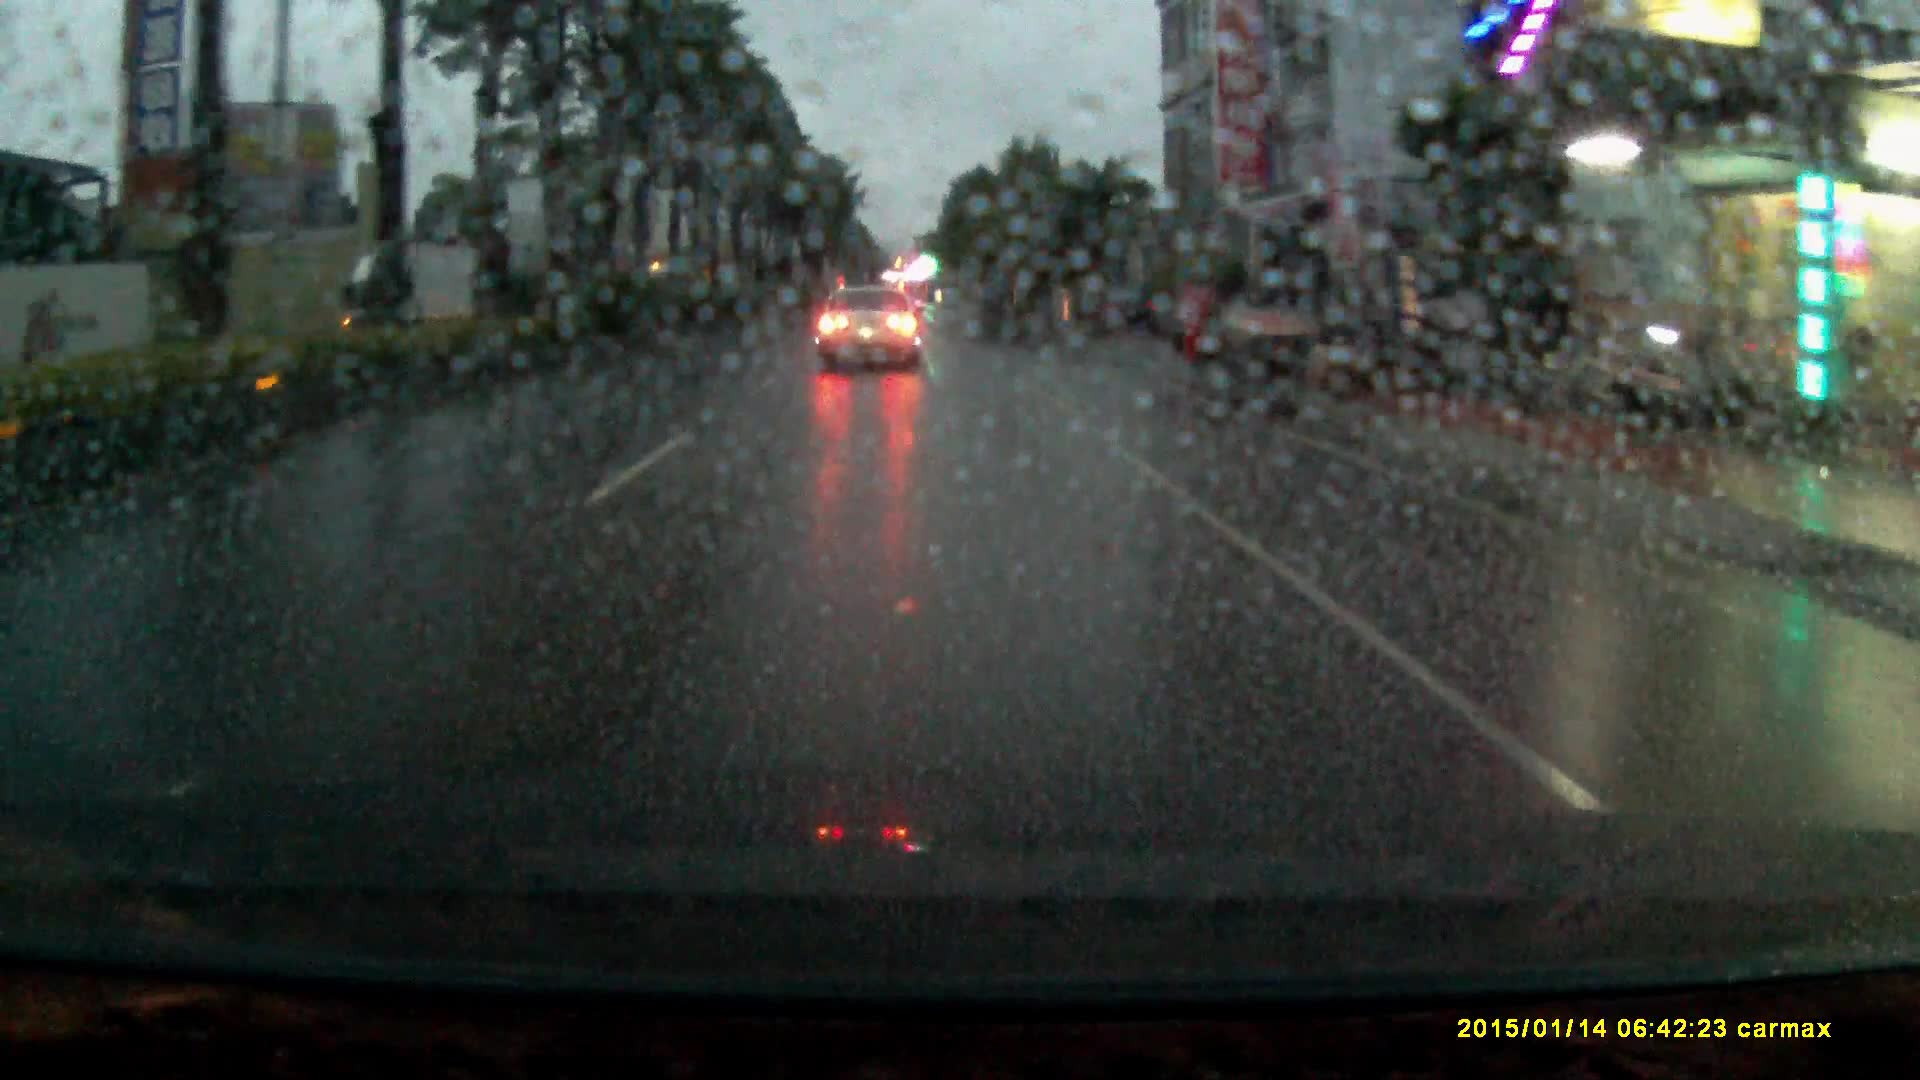vehicle: (334, 244, 485, 327), (818, 284, 920, 377), (1079, 285, 1160, 339)
